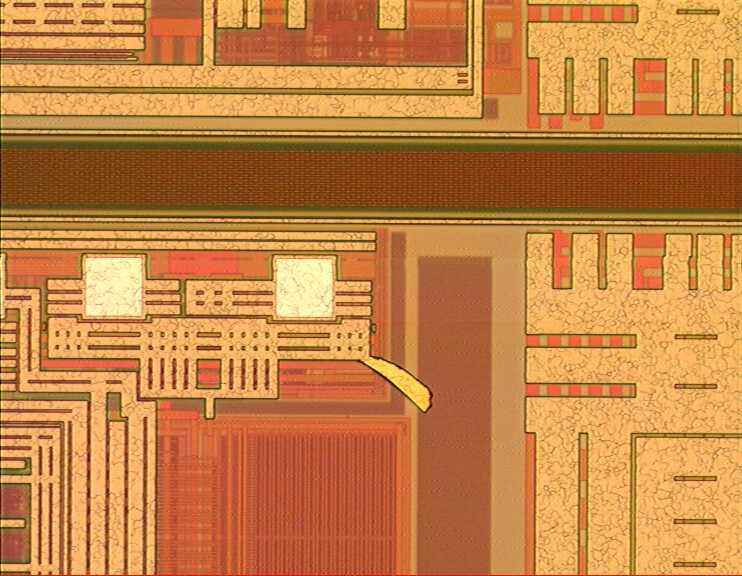BLOCK ETCH: (339, 341, 440, 417)
